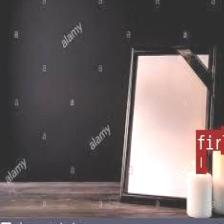fire: (196, 150, 206, 172), (220, 126, 224, 152)
